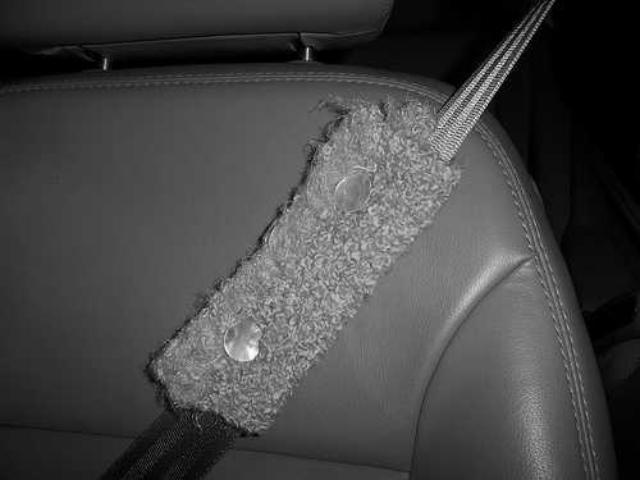Seatbelt: (93, 0, 559, 480)
